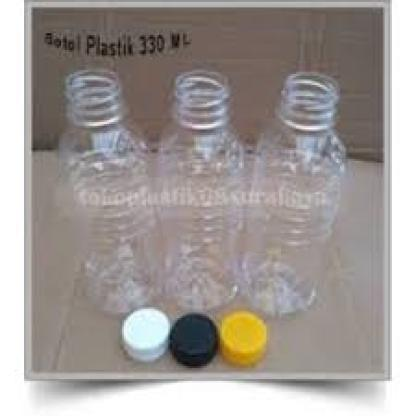Glass Bottle: (50, 70, 162, 318), (243, 68, 346, 318), (155, 71, 252, 315)
